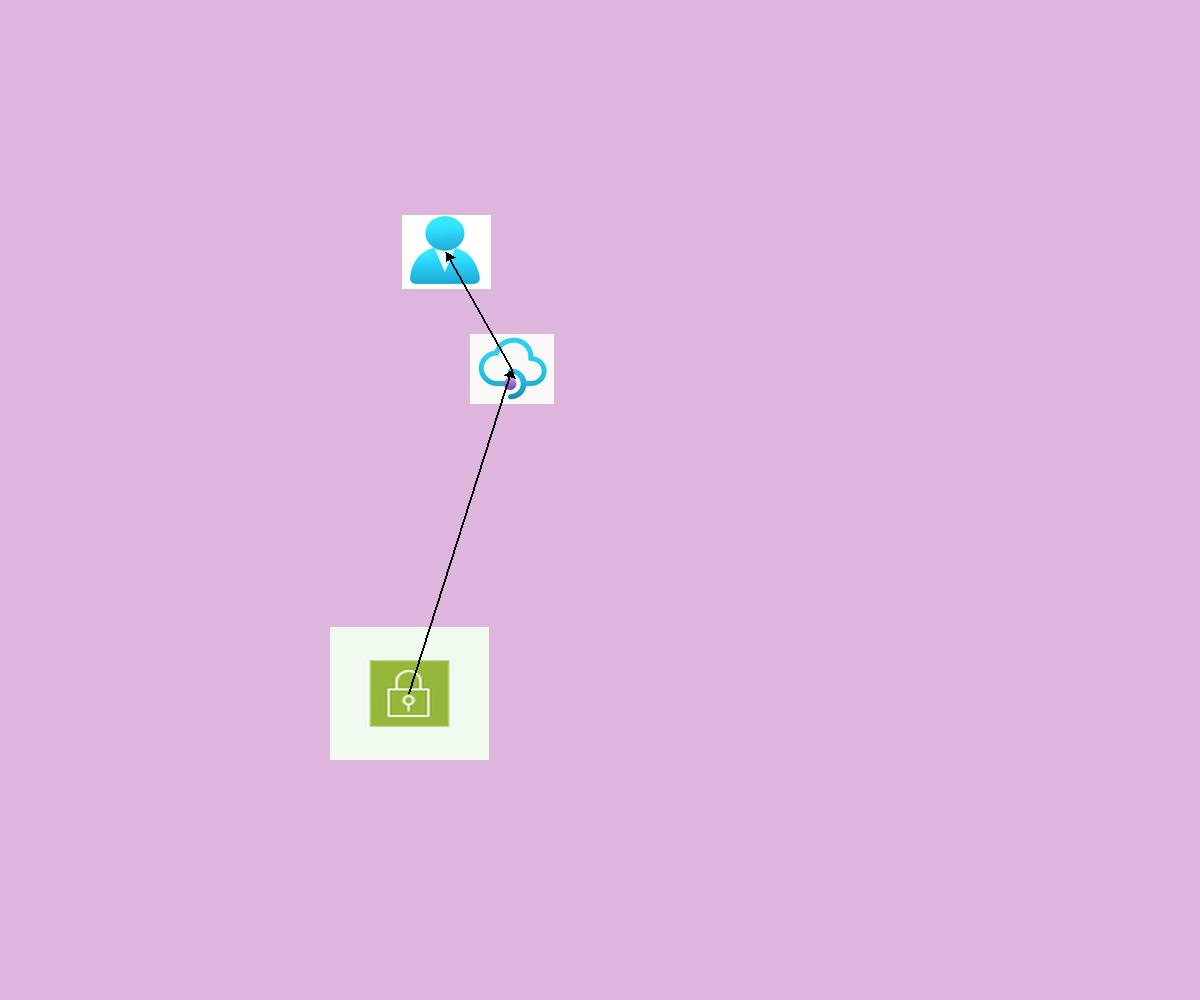AWS-Public-subnet: (330, 627, 489, 760)
Azure_api_gateway: (470, 334, 554, 404)
Azure_users: (402, 215, 491, 289)
